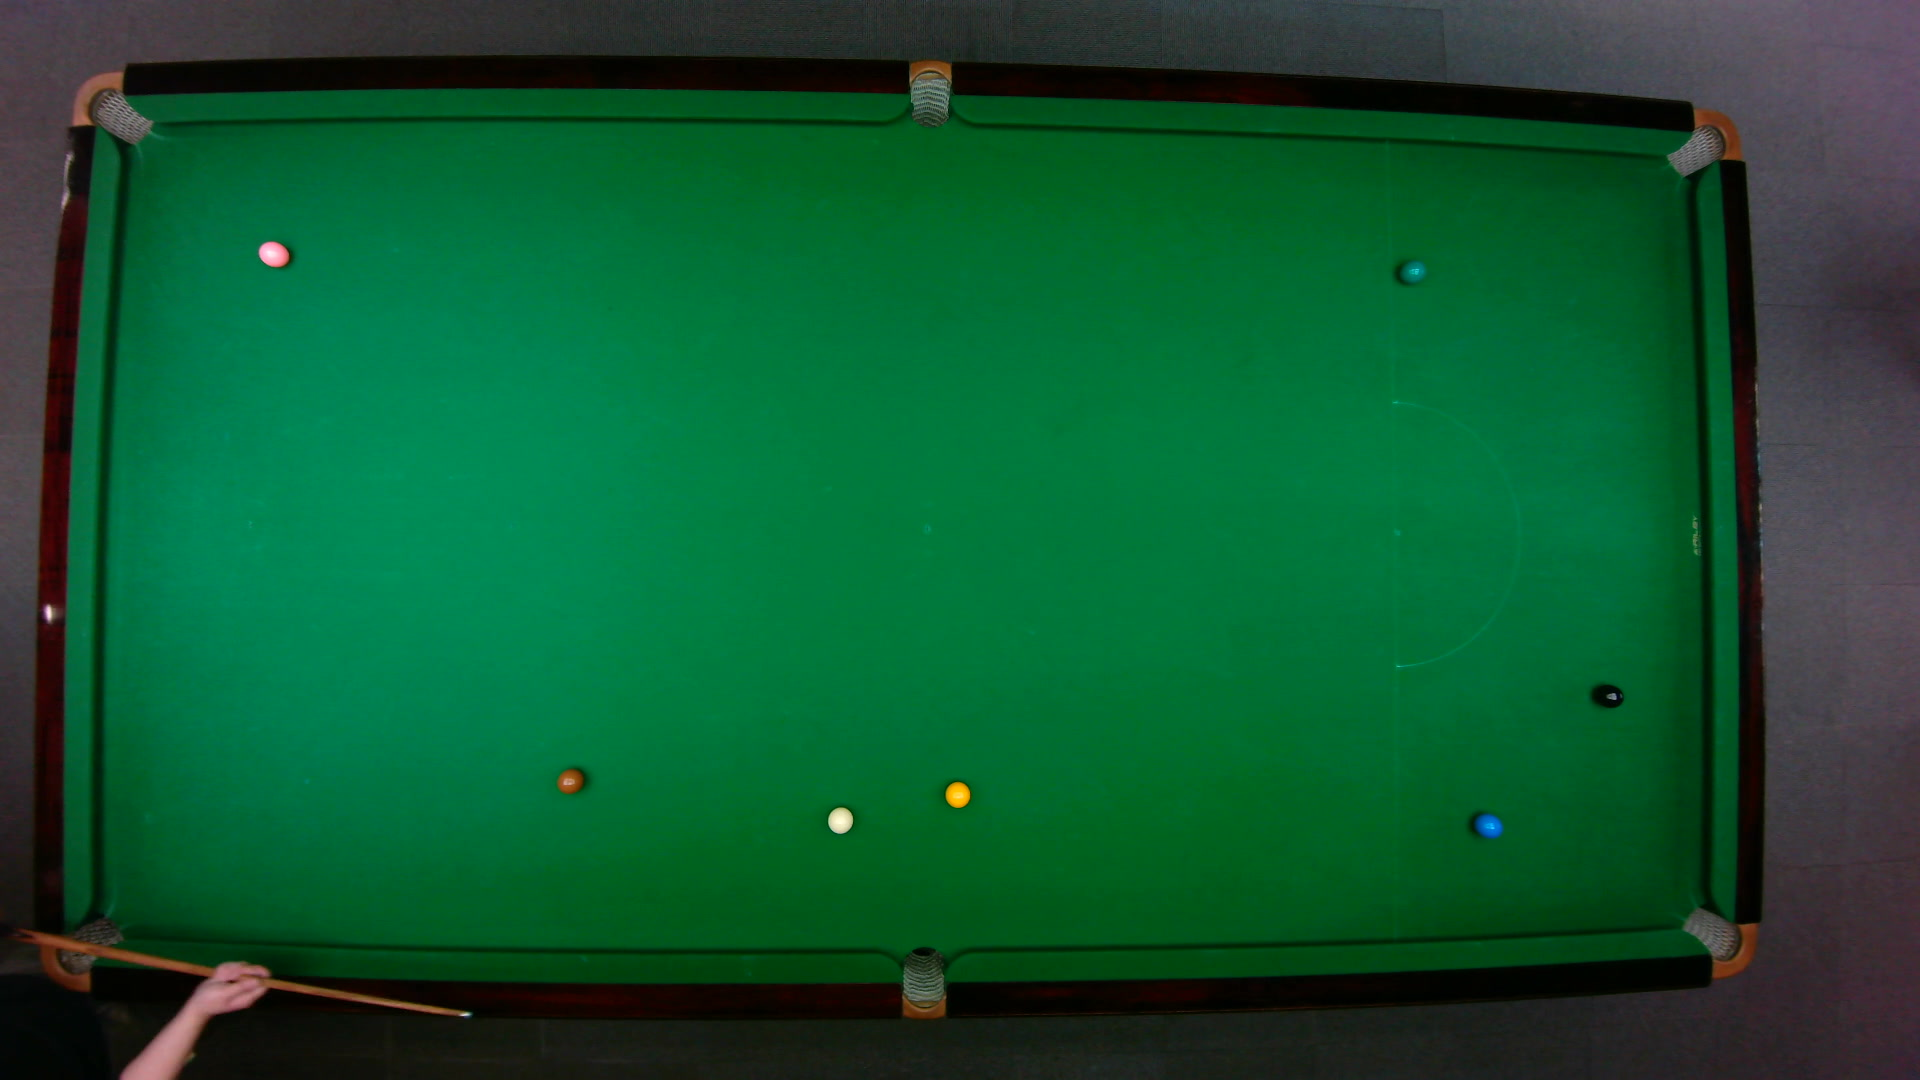bag: (69, 69, 153, 145), (1677, 905, 1756, 978), (1663, 107, 1742, 177), (901, 944, 944, 1021), (909, 57, 949, 128)
black: (1593, 682, 1625, 708)
blue: (1472, 811, 1503, 839)
brown: (555, 766, 583, 794)
cue: (3, 923, 473, 1021)
green: (1396, 258, 1425, 284)
pink: (256, 237, 290, 268)
white: (825, 804, 855, 833)
yellow: (943, 779, 972, 808)
zone: (1390, 400, 1520, 669)
